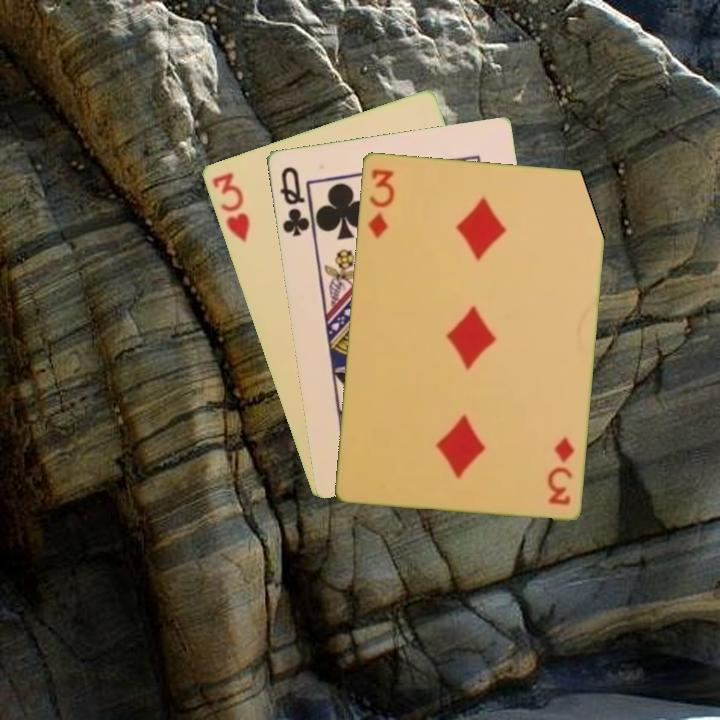3d: (364, 165, 397, 241), (544, 432, 577, 508)
3h: (208, 169, 252, 245)
Qc: (276, 163, 315, 240)
